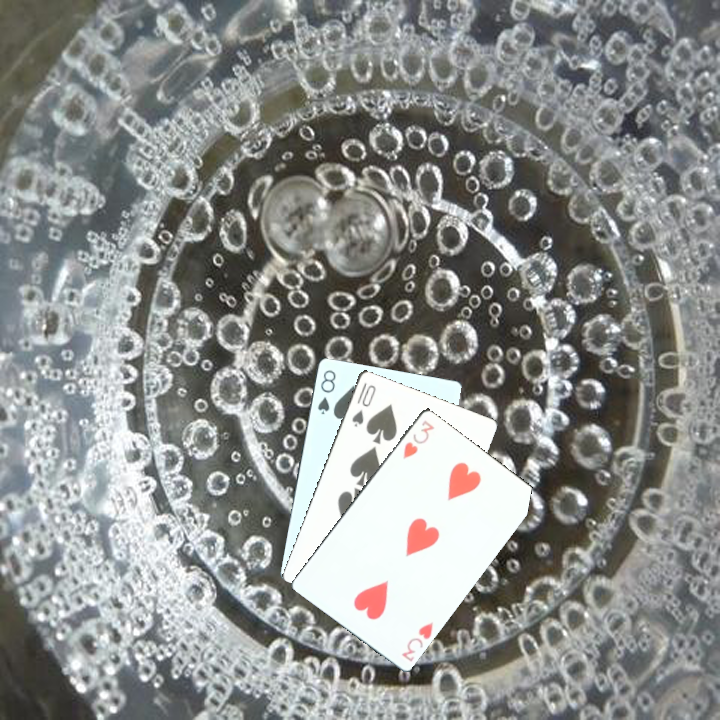10s: (348, 381, 378, 429)
3h: (398, 416, 437, 462), (397, 618, 436, 664)
8s: (314, 366, 338, 417)
